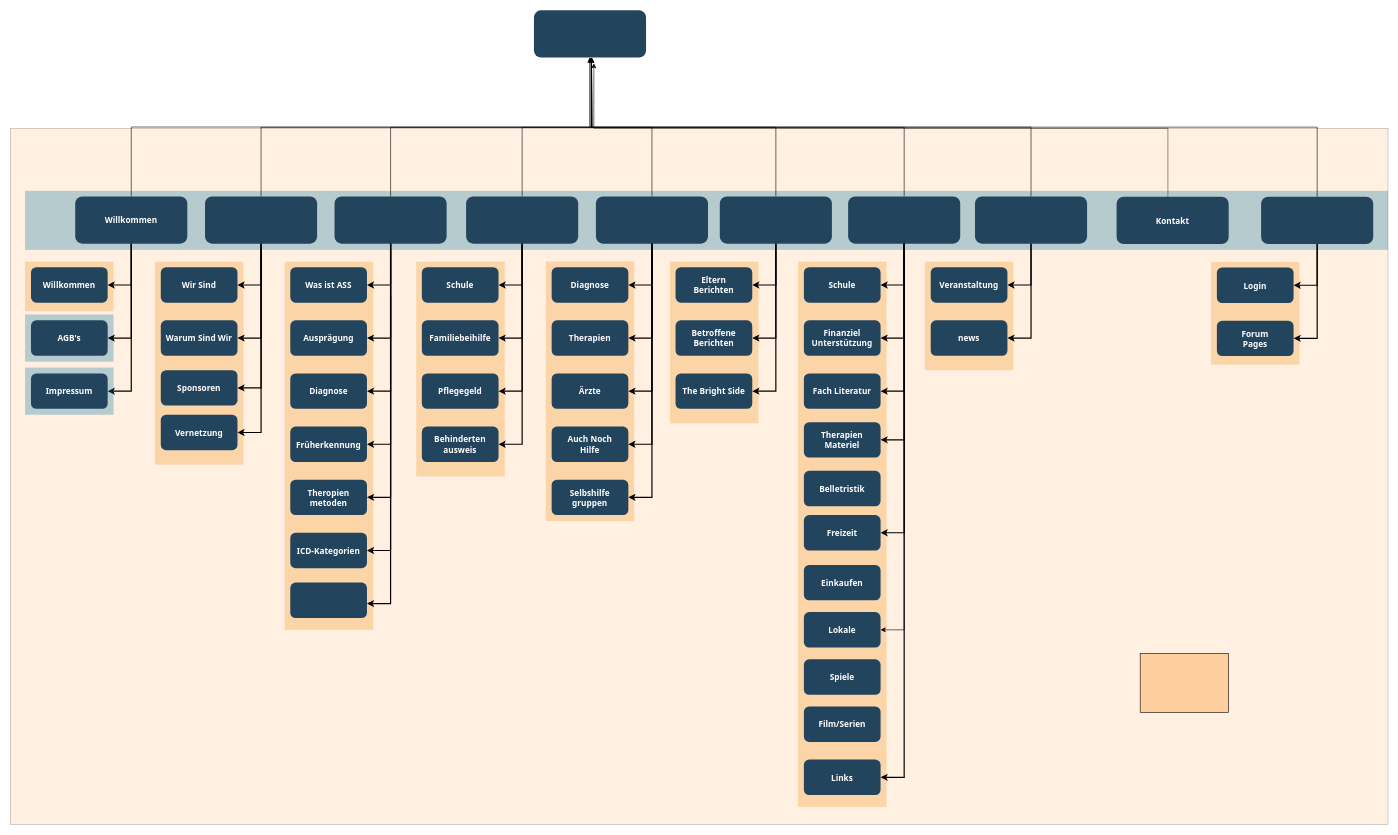
Image size: 1398x835. Some labels were removed from this diagram. Each missing label, with the centre of its shape:
"ADMIN Panel For ALL" goes at point (1184, 682).
"Aktuelles" goes at point (1031, 219).
"Autismus" goes at point (390, 219).
"Autismuswelt" goes at point (590, 33).
"Berühmte Leute" goes at point (328, 600).
"Erfahrungen" goes at point (776, 219).
"Forums" goes at point (1317, 220).
"Gesetliche Regelung" goes at point (522, 219).
"Tips & Tricks" goes at point (904, 219).
"Wohin Wenden" goes at point (652, 219).
"Über Uns" goes at point (261, 219).
